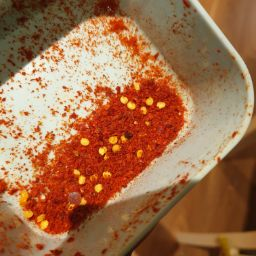Red pepper flakes: (6, 11, 196, 194), (49, 98, 193, 173), (91, 80, 179, 177), (17, 159, 153, 216), (26, 134, 103, 223)
